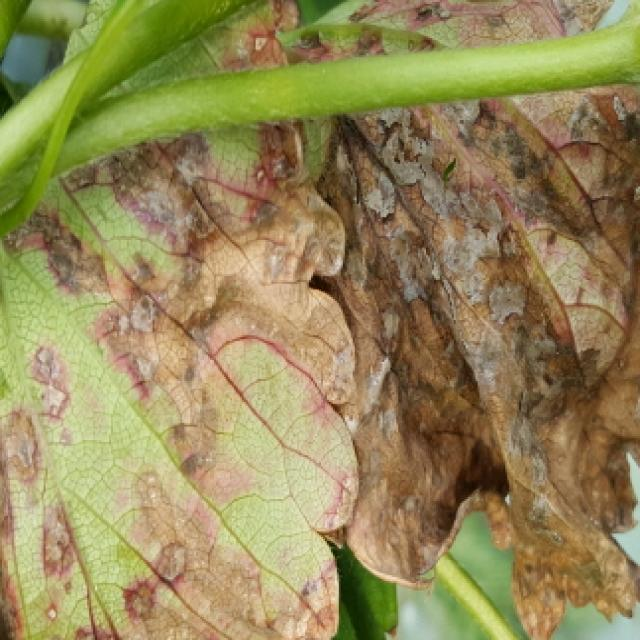Angular Leafspot: (0, 0, 360, 640), (287, 0, 640, 640)
